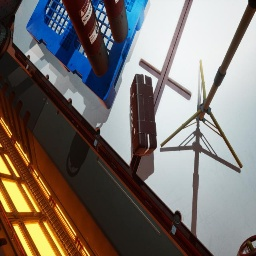FirstAidBox ,: (130, 74, 157, 156)
NitrogenTank ,: (62, 0, 109, 77), (103, 0, 128, 43), (239, 235, 256, 256)
